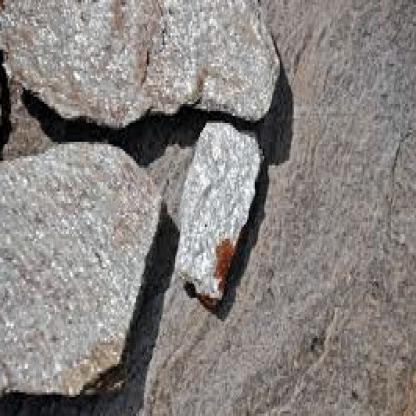Metamorphic_Quartize: (2, 118, 158, 414), (170, 120, 277, 298)
